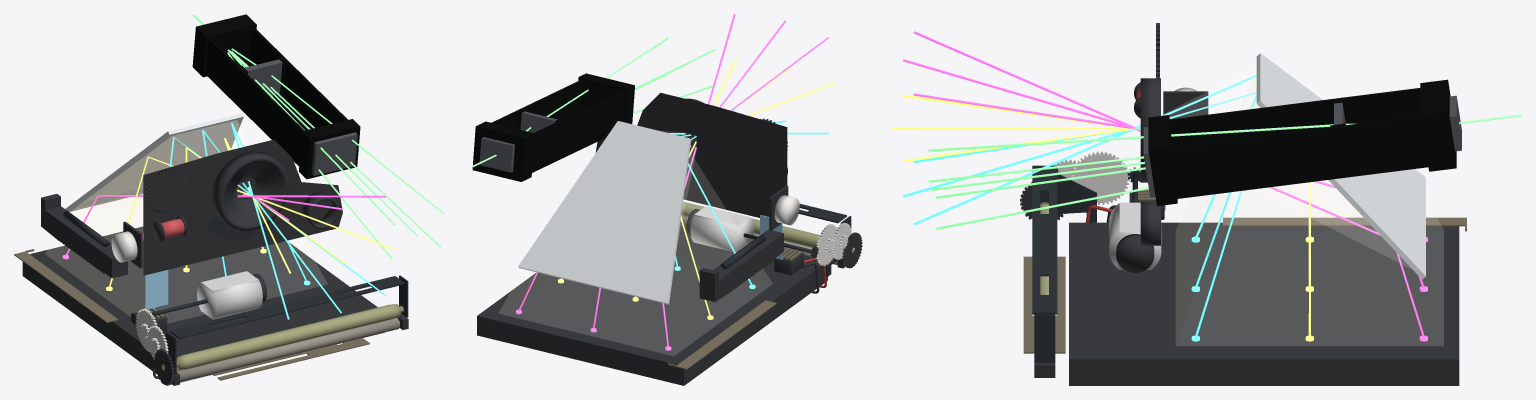
The model's file is polaroid1000.glb.
3 views of the same model, side by side, from view 1: azimuth 30°, elevation 25°; view 2: azimuth 150°, elevation 25°; view 3: azimuth 270°, elevation 25° (orthographic). The views are drawn at different scales.
Visible parts, largest first — view 1: pack_case, shutter_frame, light_to_film, mirror, lens_cup, finder_side_p, upper_roller, lower_roller, finder_side_m, counter_arm, roller_strip, motor_can (+26 smaller); view 2: pack_case, mirror, light_to_film, shutter_frame, finder_side_p, counter_arm, motor_can, finder_rear, finder_side_m, finder_collar, pick_plate, eyepiece_lens (+14 smaller); view 3: pack_case, light_to_film, finder_side_m, mirror, finder_side_p, roller_strip, finder_rear, finder_collar, roller_spring, gear_a, pick_plate, motor_can (+22 smaller).
Part boxes in pixels (x1=…): pack_case: x1=22, y1=226, x2=384, y2=384; shutter_frame: x1=143, y1=139, x2=342, y2=275; light_to_film: x1=46, y1=123, x2=326, y2=322; mirror: x1=65, y1=113, x2=243, y2=211; lens_cup: x1=212, y1=151, x2=288, y2=230; finder_side_p: x1=205, y1=38, x2=304, y2=166; upper_roller: x1=161, y1=304, x2=403, y2=370; lower_roller: x1=176, y1=317, x2=399, y2=382; finder_side_m: x1=249, y1=27, x2=347, y2=127; counter_arm: x1=41, y1=194, x2=127, y2=278; roller_strip: x1=170, y1=276, x2=404, y2=339; motor_can: x1=197, y1=271, x2=262, y2=319; pack_case: x1=477, y1=225, x2=827, y2=385; mirror: x1=518, y1=121, x2=691, y2=304; light_to_film: x1=499, y1=153, x2=771, y2=355; shutter_frame: x1=595, y1=92, x2=787, y2=217; finder_side_p: x1=532, y1=90, x2=624, y2=172; counter_arm: x1=699, y1=229, x2=783, y2=301; motor_can: x1=690, y1=206, x2=754, y2=252; finder_rear: x1=472, y1=121, x2=534, y2=181; finder_side_m: x1=492, y1=80, x2=582, y2=128; finder_collar: x1=578, y1=73, x2=634, y2=123; pick_plate: x1=675, y1=300, x2=776, y2=369; eyepiece_lens: x1=479, y1=137, x2=514, y2=172; pack_case: x1=1069, y1=222, x2=1459, y2=385; light_to_film: x1=1176, y1=190, x2=1443, y2=345; finder_side_m: x1=1169, y1=115, x2=1428, y2=198; mirror: x1=1256, y1=53, x2=1425, y2=279; finder_side_p: x1=1169, y1=88, x2=1420, y2=146; roller_strip: x1=1032, y1=168, x2=1057, y2=314; finder_rear: x1=1420, y1=79, x2=1456, y2=171; finder_collar: x1=1148, y1=115, x2=1177, y2=206; roller_spring: x1=1023, y1=256, x2=1065, y2=353; gear_a: x1=1071, y1=151, x2=1129, y2=204; pick_plate: x1=1223, y1=217, x2=1466, y2=226; motor_can: x1=1109, y1=202, x2=1161, y2=269.
Size of the model in its own units: 0.105 by 0.0895 by 0.1809.
